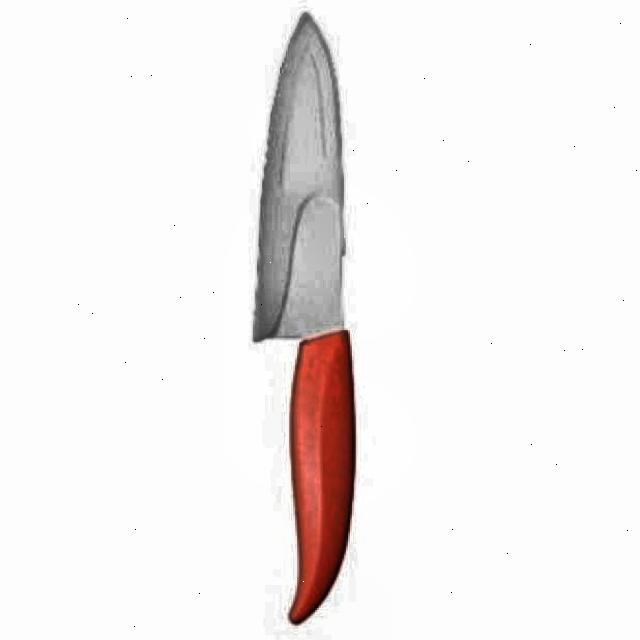knife: (246, 11, 363, 627)
